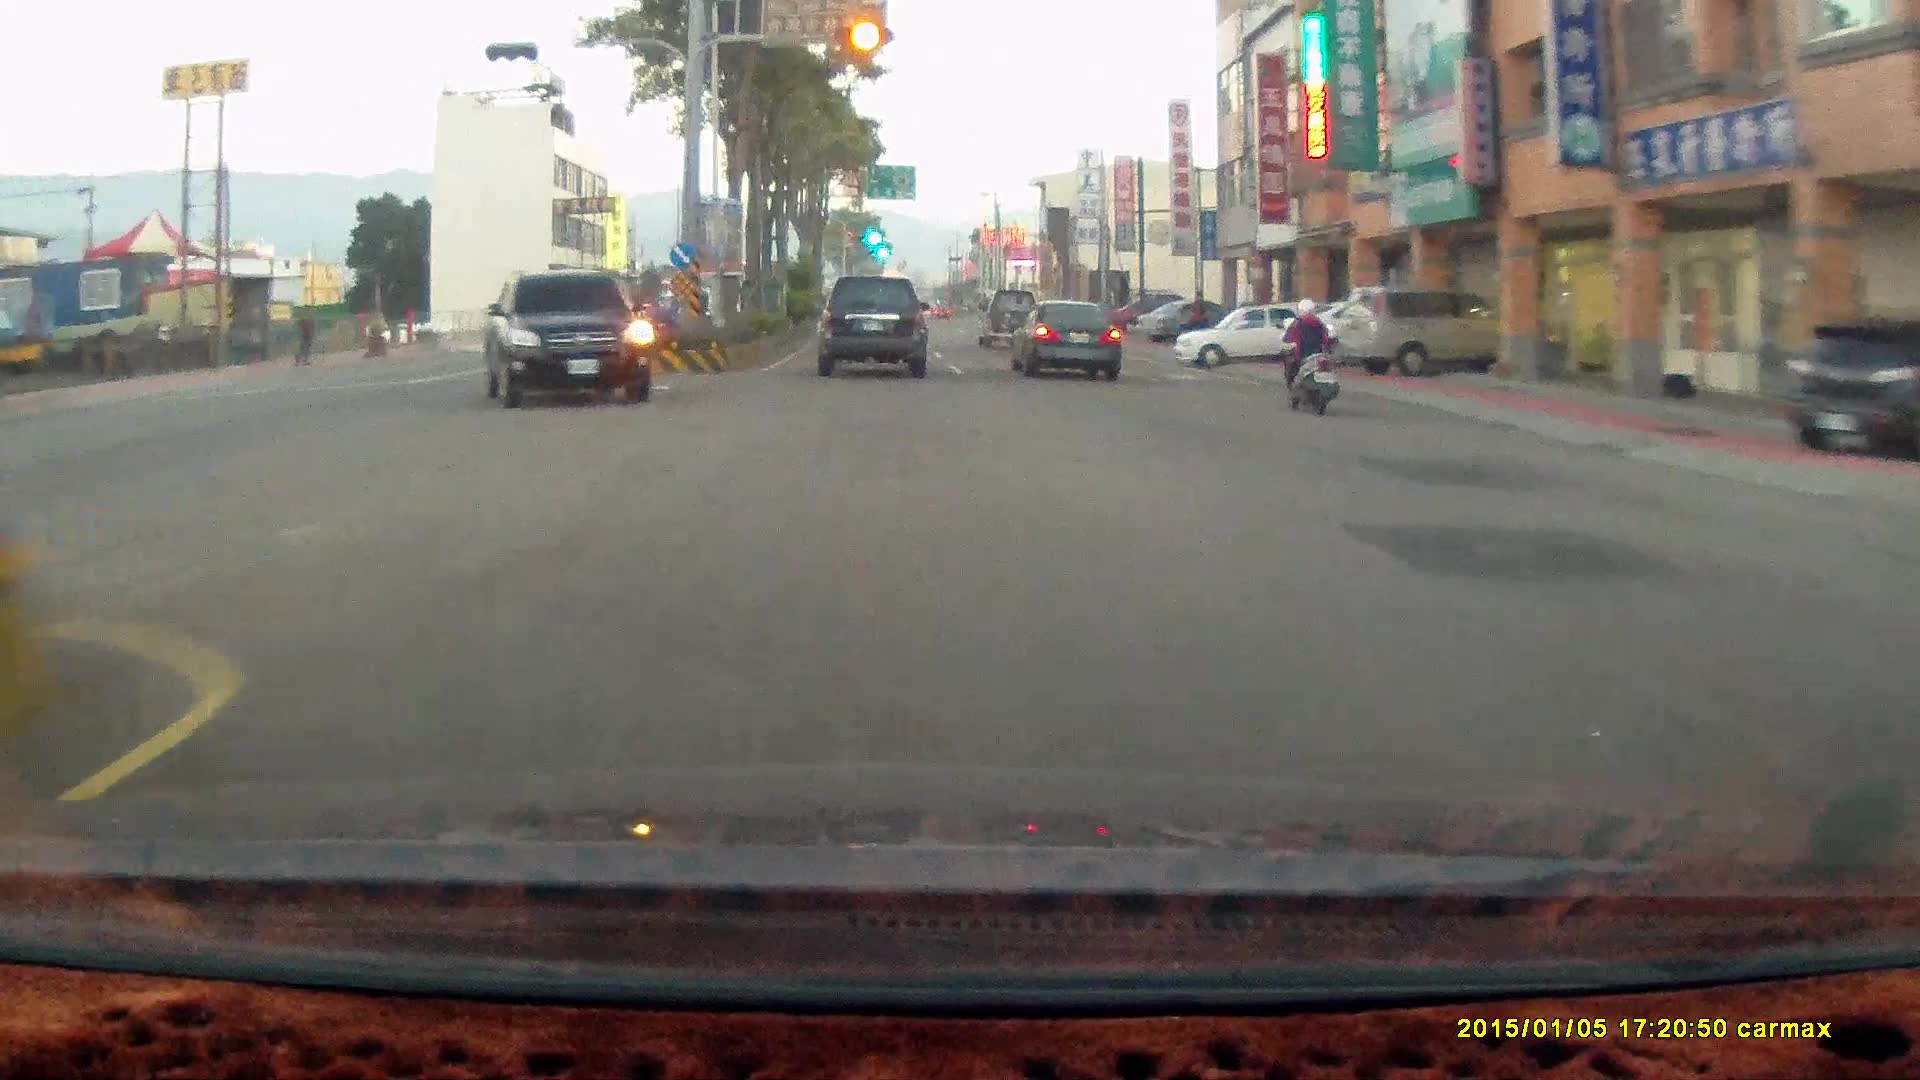pedestrian: (1186, 287, 1211, 346), (289, 305, 314, 361)
rider: (1268, 289, 1350, 419), (1276, 296, 1339, 415)
vehicle: (480, 270, 651, 407), (482, 270, 653, 407), (1769, 314, 1919, 463), (1777, 318, 1920, 466), (1335, 285, 1523, 375), (1342, 289, 1512, 382), (1284, 296, 1456, 371), (823, 273, 934, 378), (816, 274, 926, 378), (1175, 304, 1333, 375), (1172, 303, 1330, 368), (1008, 300, 1130, 381), (1007, 295, 1120, 377), (1137, 298, 1234, 342), (975, 287, 1043, 345), (1110, 296, 1193, 334)
